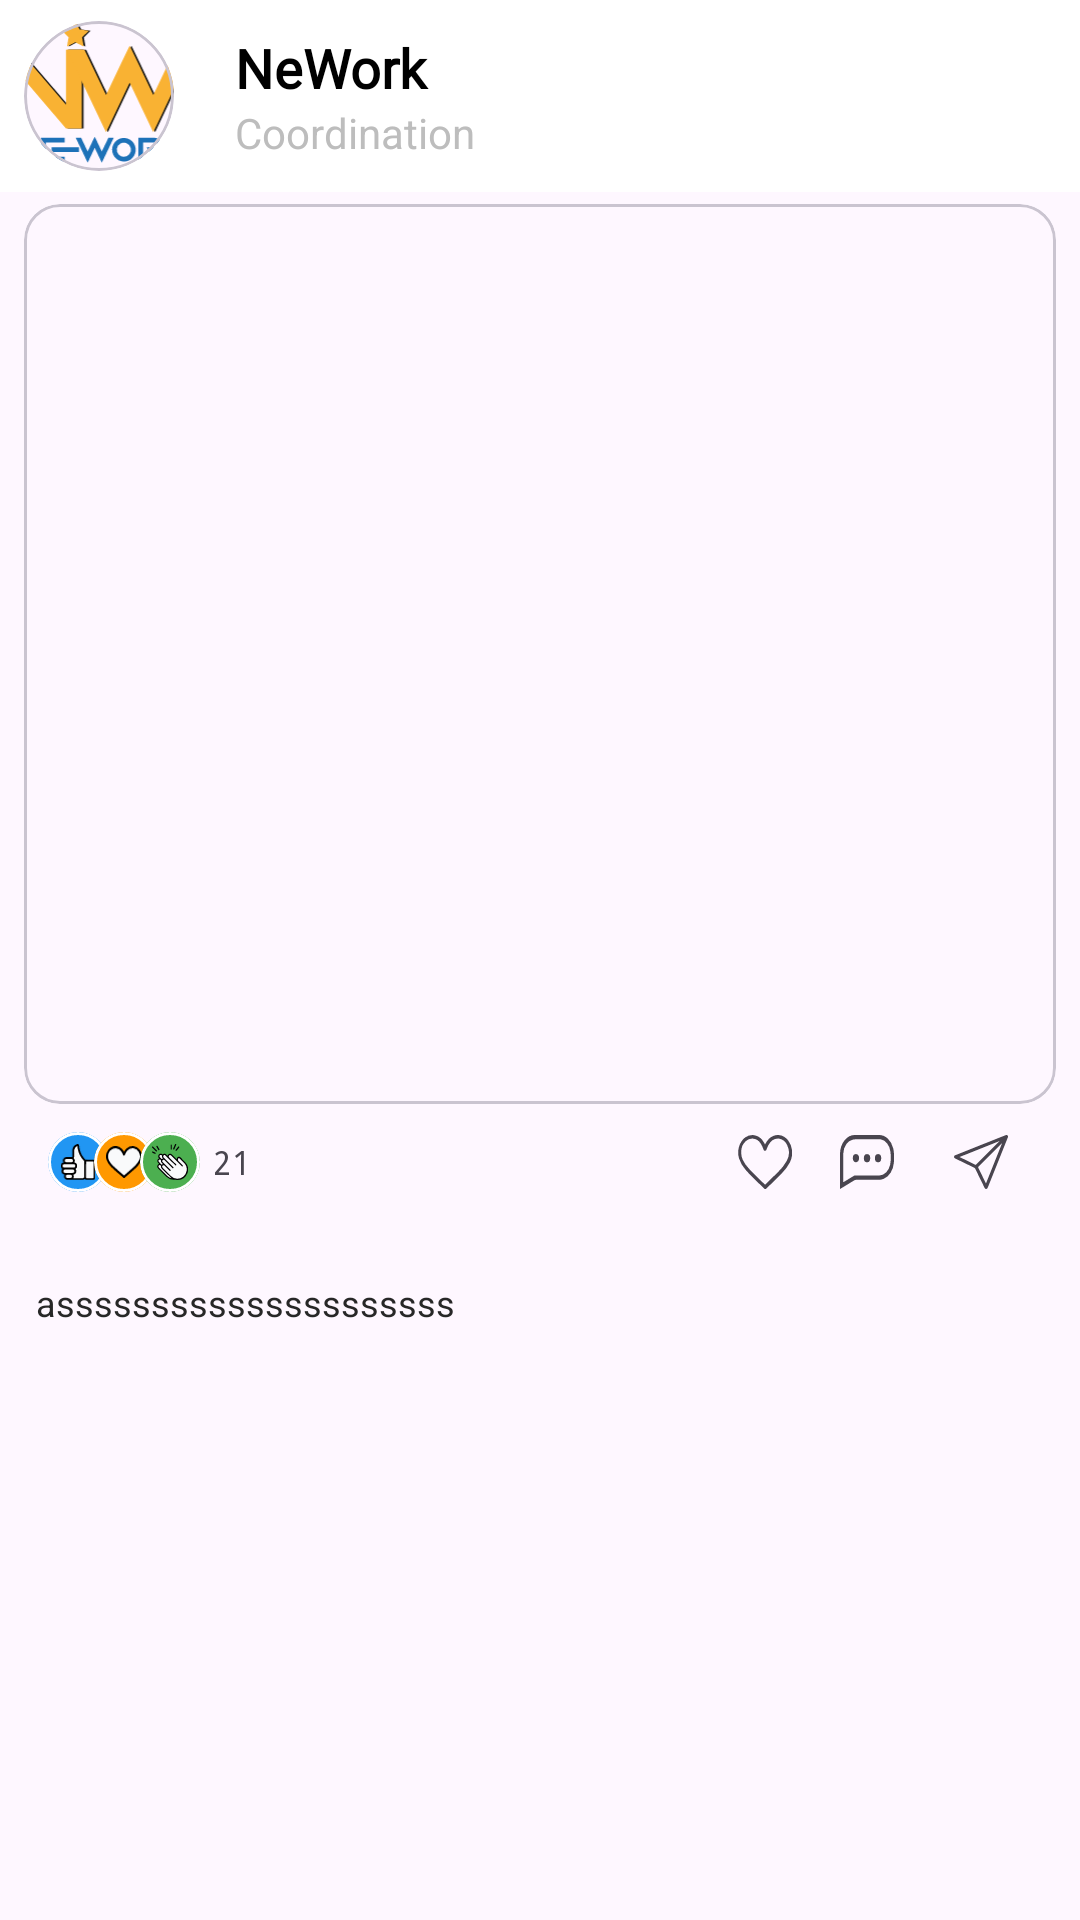

Icons on this 1080*1920 Android screen, each with the point to tap as [x,y]:
clap: [170,1162]
comment: [867,1162]
like: [765,1162]
send: [981,1162]
